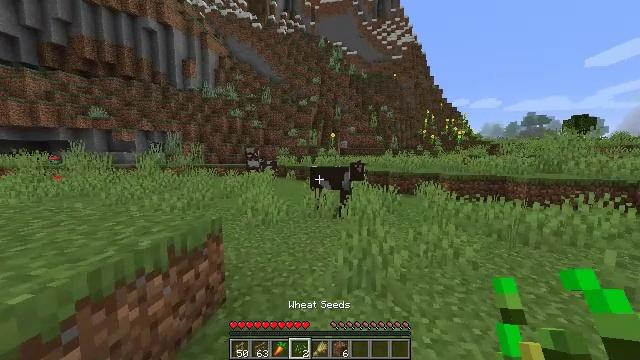cow: (312, 160, 366, 208), (244, 146, 276, 177)
